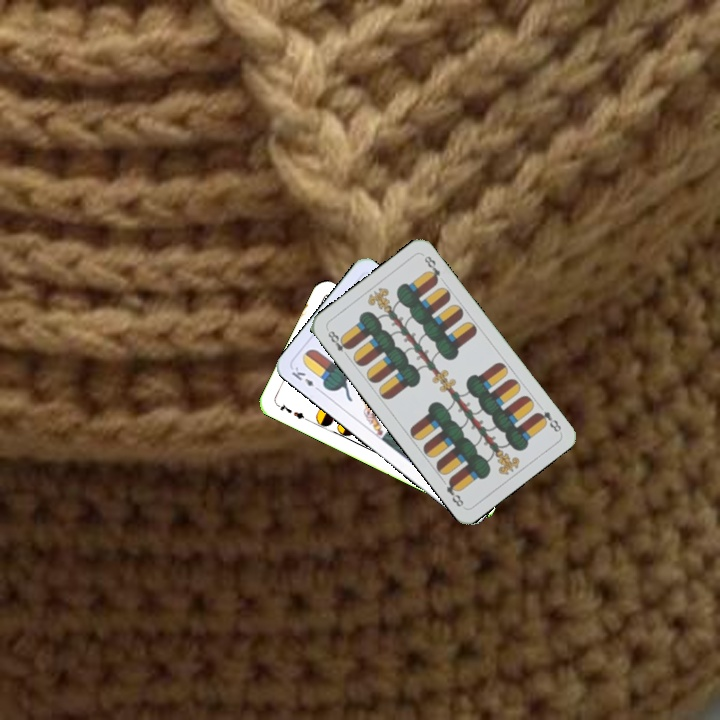E7: (273, 400, 311, 423)
E8: (324, 326, 353, 360), (532, 407, 564, 435)
EK: (288, 363, 324, 395)
